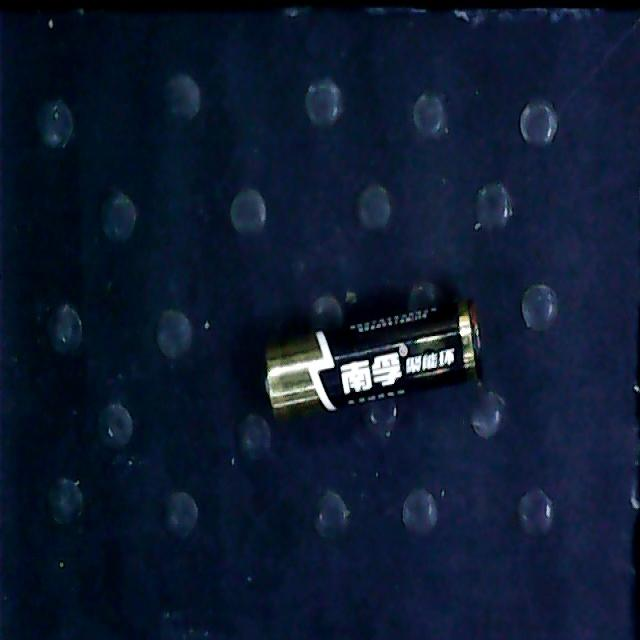-Hazardous waste - battery-: (264, 295, 484, 411)
